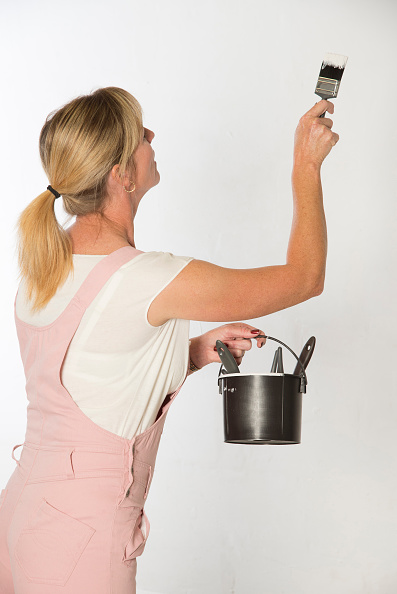em pe: (24, 70, 330, 579)
